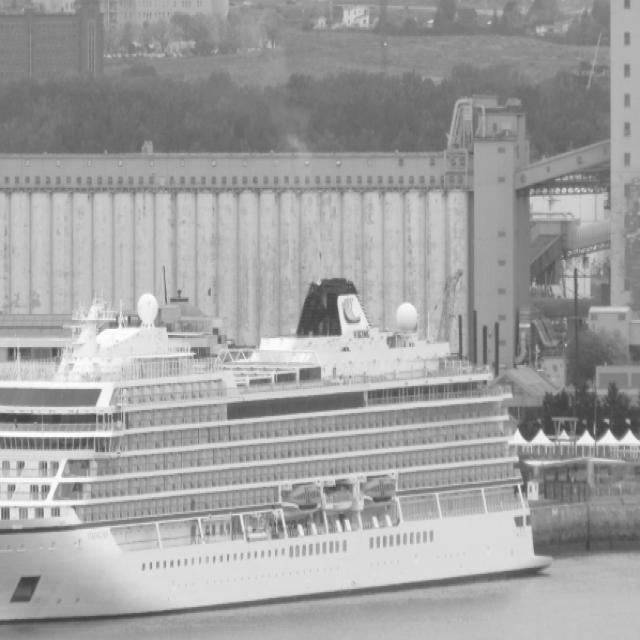cruises: (1, 265, 551, 632)
